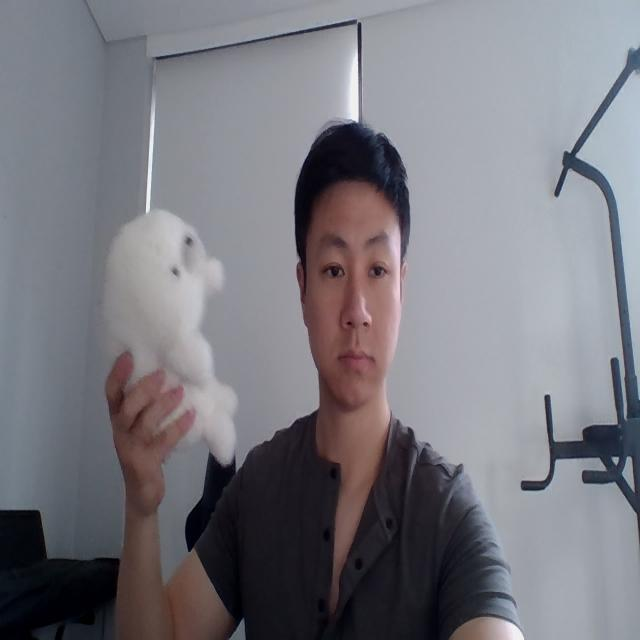seal_bb: (101, 207, 239, 467)
